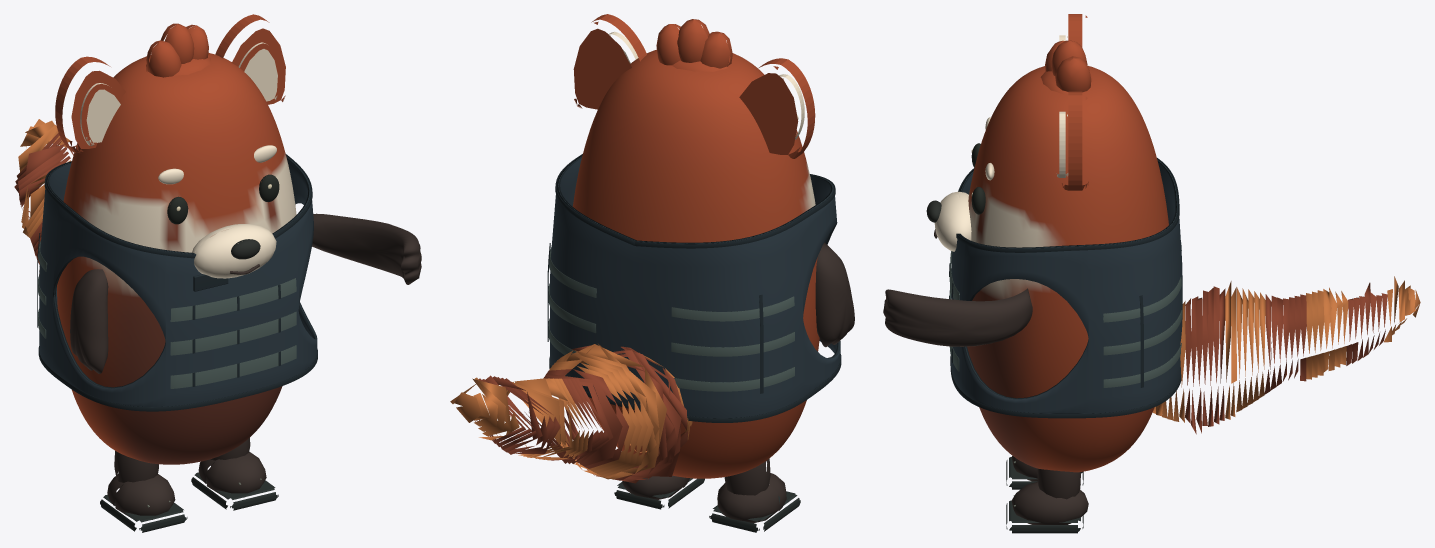
File: species-grips-redpanda-aim_up-character.glb
3 views of the same model, side by side, from view 1: azimuth 30°, elevation 25°; view 2: azimuth 150°, elevation 25°; view 3: azimuth 270°, elevation 25° (orthographic). The views are drawn at different scales.
Parts seen in each view (by area): view 1: redpanda_torso_mesh, redpanda_vest_refined_mesh, redpanda_rightArm_mesh, redpanda_leftFoot_mesh, redpanda_leftEar_mesh, redpanda_tail_mesh, redpanda_snout_mesh, redpanda_rightFoot_mesh, redpanda_leftArm_mesh, redpanda_rightEar_mesh, redpanda_crestShort_mesh; view 2: redpanda_vest_refined_mesh, redpanda_torso_mesh, redpanda_tail_mesh, redpanda_leftEar_mesh, redpanda_leftFoot_mesh, redpanda_rightEar_mesh, redpanda_crestShort_mesh, redpanda_leftArm_mesh, redpanda_rightFoot_mesh; view 3: redpanda_torso_mesh, redpanda_vest_refined_mesh, redpanda_tail_mesh, redpanda_rightArm_mesh, redpanda_rightFoot_mesh, redpanda_crestShort_mesh, redpanda_rightEar_mesh, redpanda_snout_mesh, redpanda_leftFoot_mesh.
Boxes of the visible parts, x1,y1,x2,y2 form: redpanda_torso_mesh: [57, 52, 296, 464]; redpanda_vest_refined_mesh: [37, 154, 317, 411]; redpanda_rightArm_mesh: [312, 213, 421, 284]; redpanda_leftFoot_mesh: [100, 451, 187, 532]; redpanda_leftEar_mesh: [55, 56, 125, 153]; redpanda_tail_mesh: [14, 119, 73, 274]; redpanda_snout_mesh: [192, 224, 276, 278]; redpanda_rightFoot_mesh: [191, 438, 278, 510]; redpanda_leftArm_mesh: [70, 269, 108, 373]; redpanda_rightEar_mesh: [215, 14, 285, 104]; redpanda_crestShort_mesh: [146, 23, 210, 77]; redpanda_vest_refined_mesh: [547, 154, 841, 422]; redpanda_torso_mesh: [572, 49, 819, 478]; redpanda_tail_mesh: [450, 344, 692, 483]; redpanda_leftEar_mesh: [739, 58, 815, 158]; redpanda_leftFoot_mesh: [709, 458, 800, 532]; redpanda_rightEar_mesh: [573, 14, 646, 109]; redpanda_crestShort_mesh: [656, 19, 732, 71]; redpanda_leftArm_mesh: [815, 242, 854, 347]; redpanda_rightFoot_mesh: [614, 475, 704, 509]; redpanda_torso_mesh: [967, 65, 1168, 472]; redpanda_vest_refined_mesh: [949, 158, 1182, 418]; redpanda_tail_mesh: [1152, 276, 1420, 434]; redpanda_rightArm_mesh: [883, 288, 1032, 346]; redpanda_rightFoot_mesh: [1006, 468, 1088, 533]; redpanda_crestShort_mesh: [1040, 40, 1092, 94]; redpanda_rightEar_mesh: [1056, 91, 1088, 190]; redpanda_snout_mesh: [926, 191, 971, 251]; redpanda_leftFoot_mesh: [1006, 456, 1083, 489].
Bounding box in the file's own units: 1.26 × 1.98 × 2.09.
